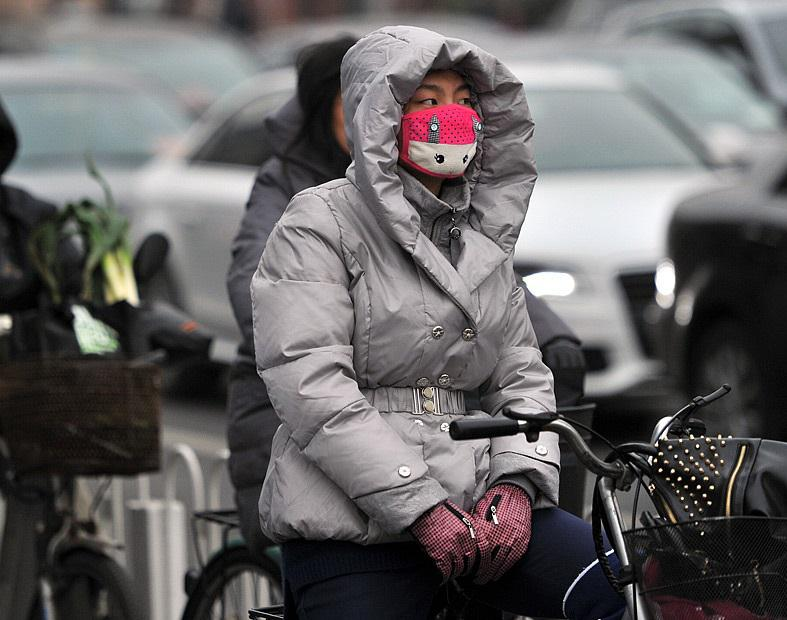OK: (389, 76, 489, 176)
